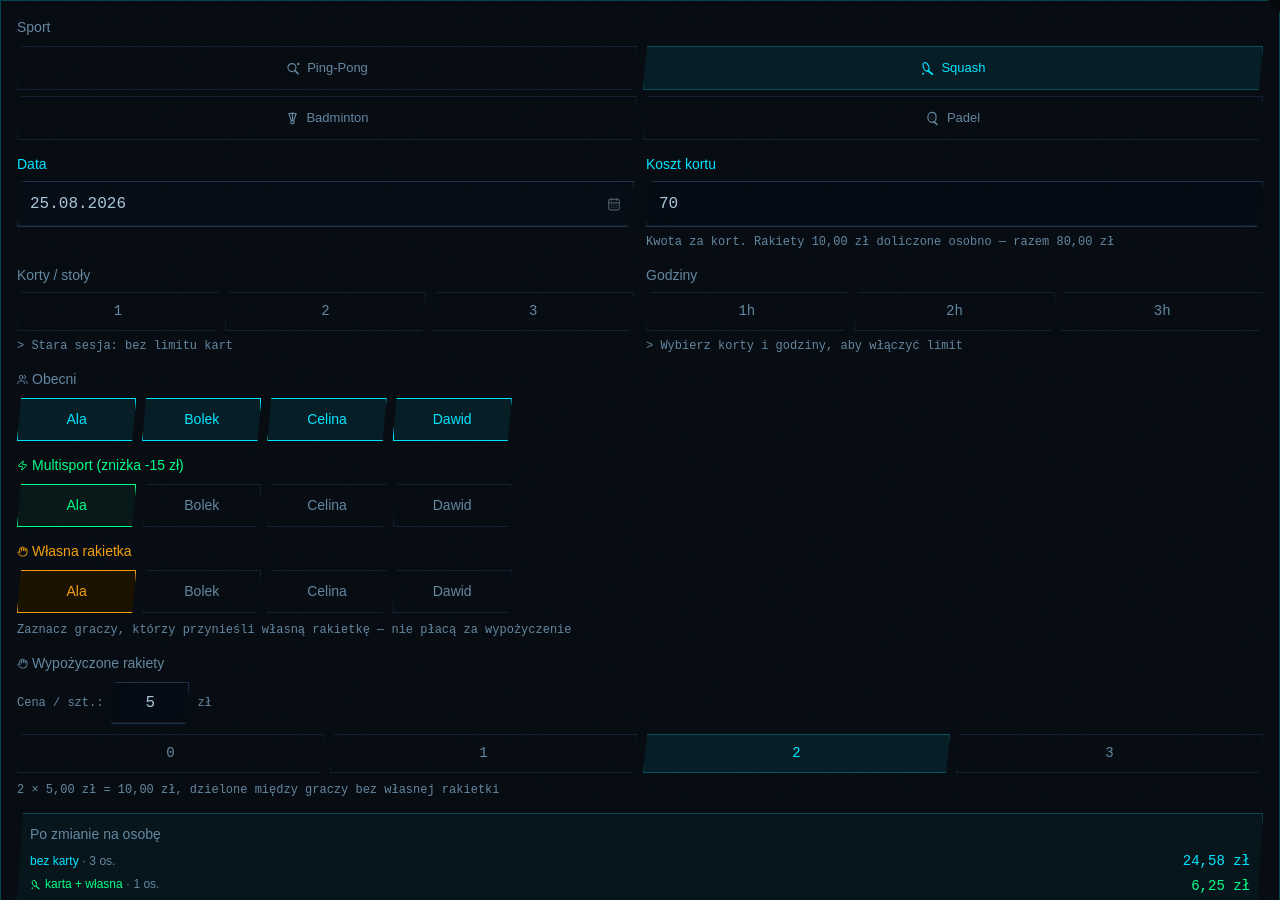
Test: EditSessionForm — pełna edycja › stara sesja bez kortów/godzin nie włącza limitu bez wyboru
This screenshot has width=1280, height=900.
Expected: the text "> Stara sesja: bez limitu kart" is shown, [17,339,233,353]
What coordinates should you click on to do the following:
click the button "1" below "Korty / stoły"
I would click on:
 (118, 312)
Its box is [17,292,219,331].
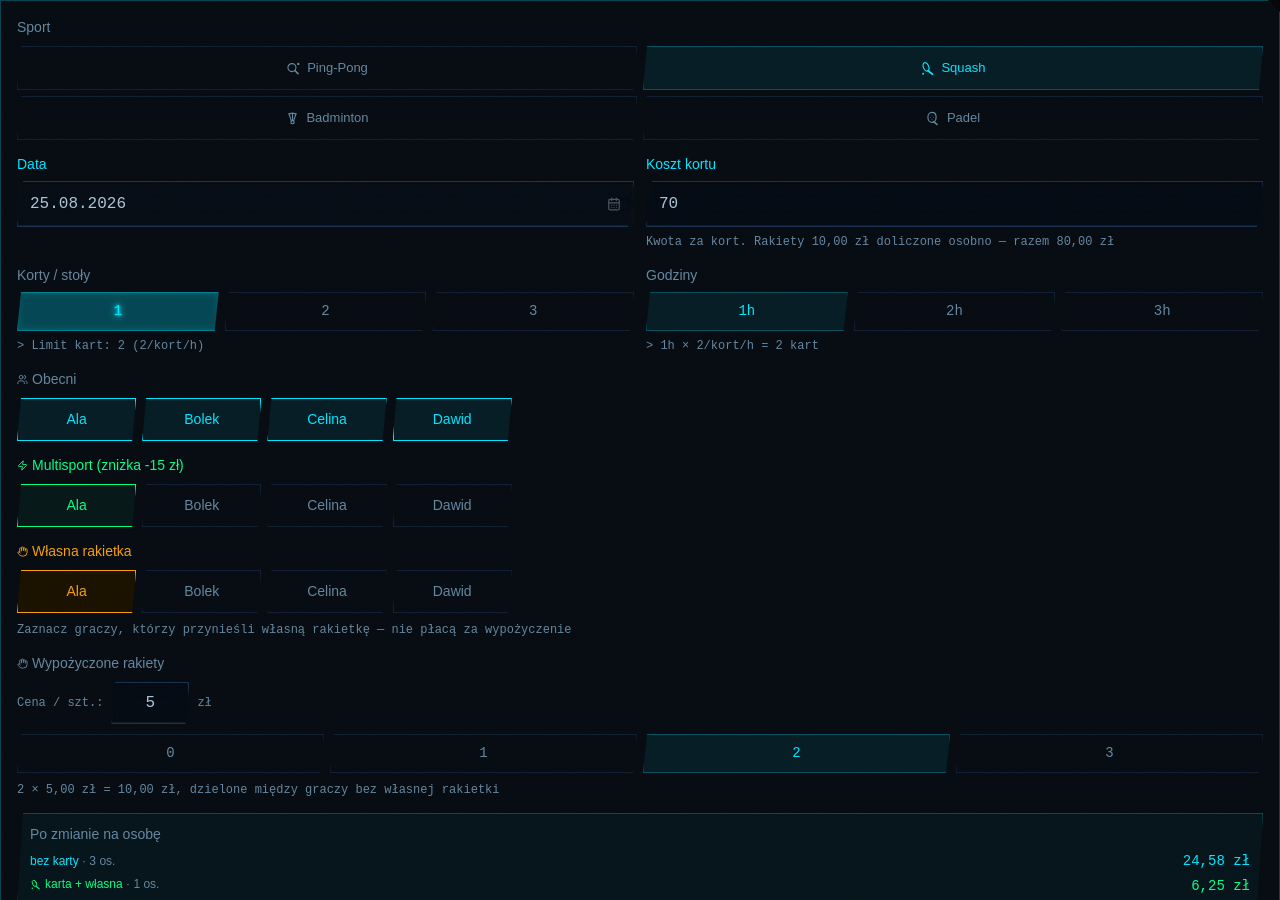
Expected: the text "> Limit kart: 2 (2/kort/h)" is shown, [17,339,204,353]
